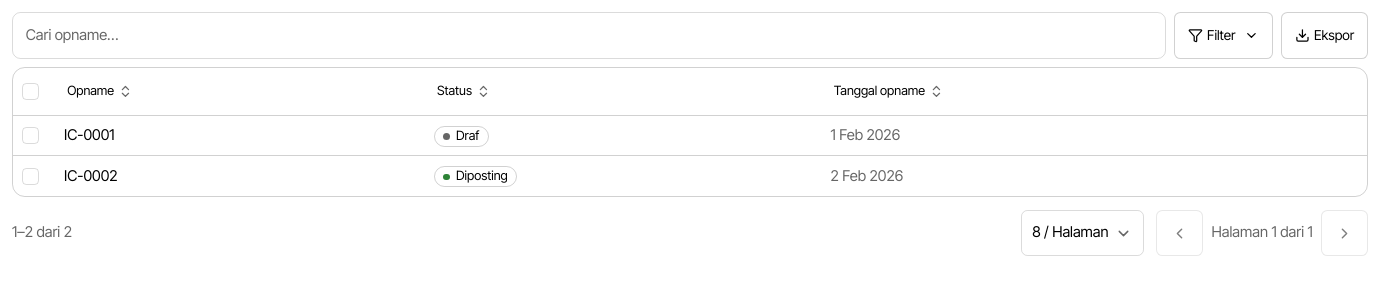
Scenario: CountsSection › filters rows through the search box
This screenshot has width=1378, height=288.
Expected: the link "IC-0001" is shown, [64,126,114,144]
Type "IC-0002" into the search field with placeholder "Cari opname…".
click(589, 35); type("IC-0002")  # box [12,12,1166,59]
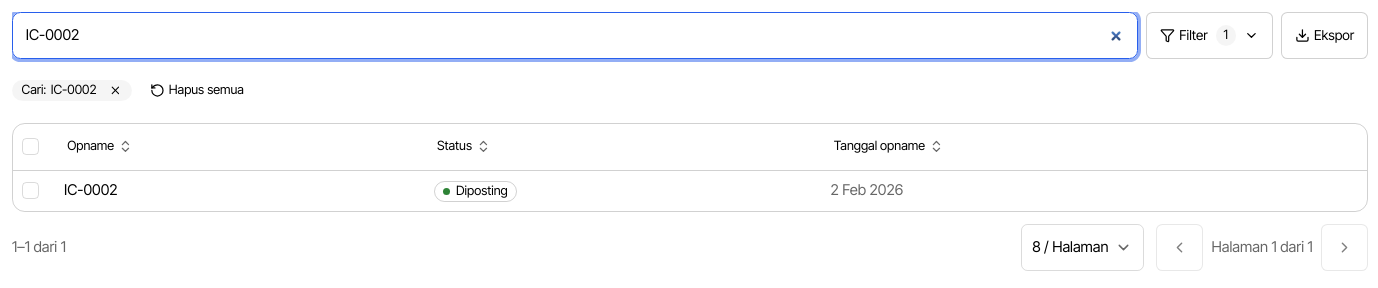
Now the text "IC-0002" is shown, box [51,82,96,99]
Now the link "IC-0001" is gone
